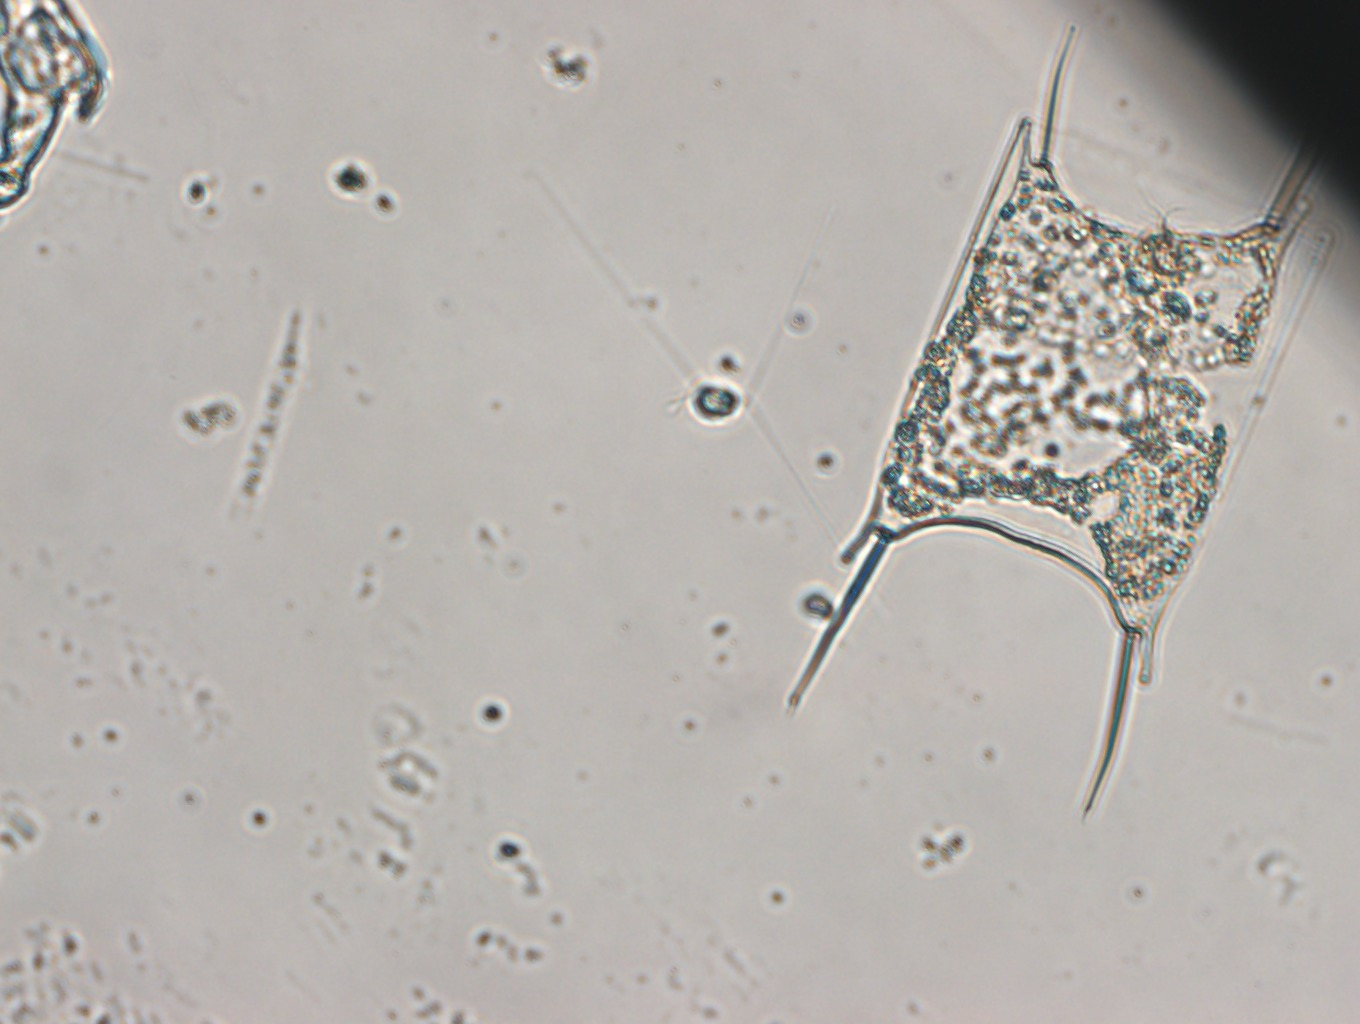biddulphia: (785, 136, 1278, 824)
chaetoceros: (532, 172, 827, 535)
